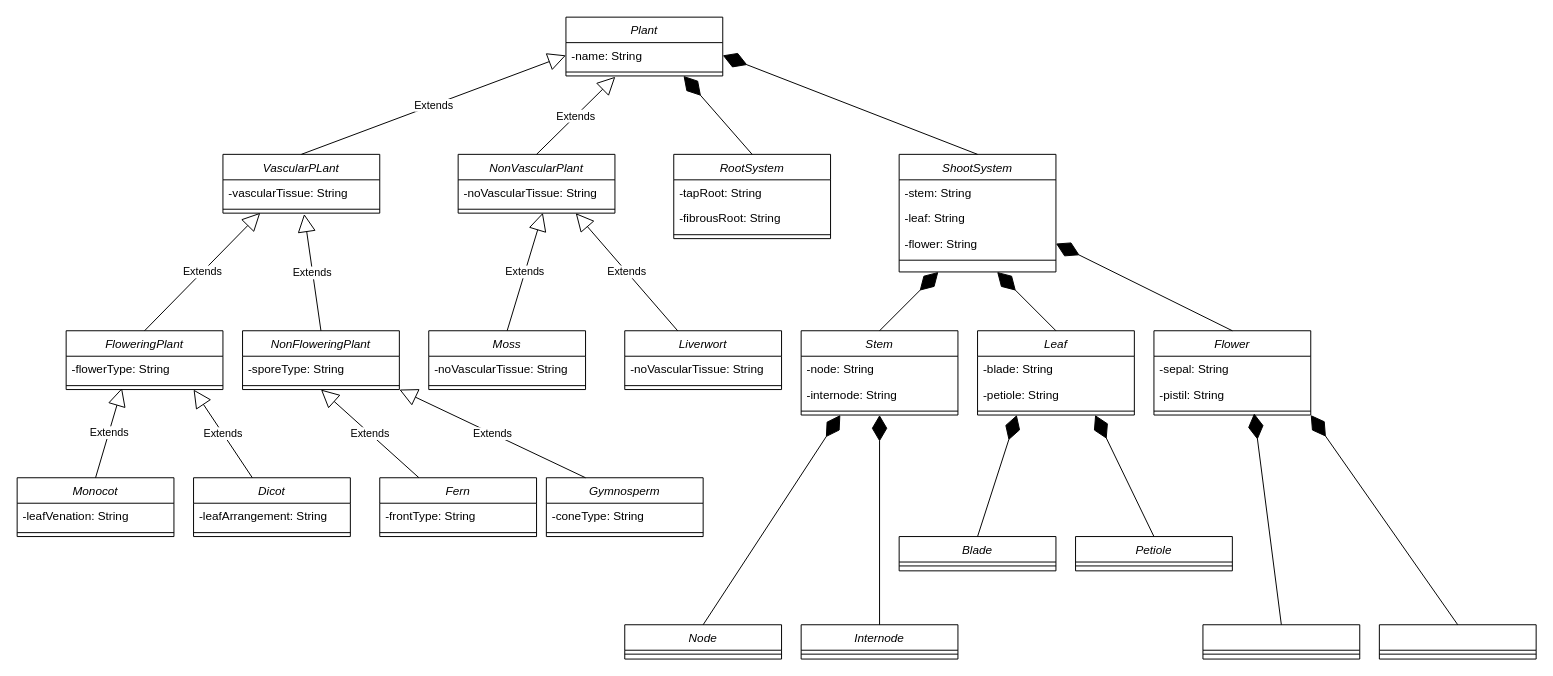
This 1553x676 diagram has some shape labels left out. The centre of each missing label's shape, as x and y in pixels:
"Pistil" goes at (1457,641).
"Sepal" goes at (1281,641).
